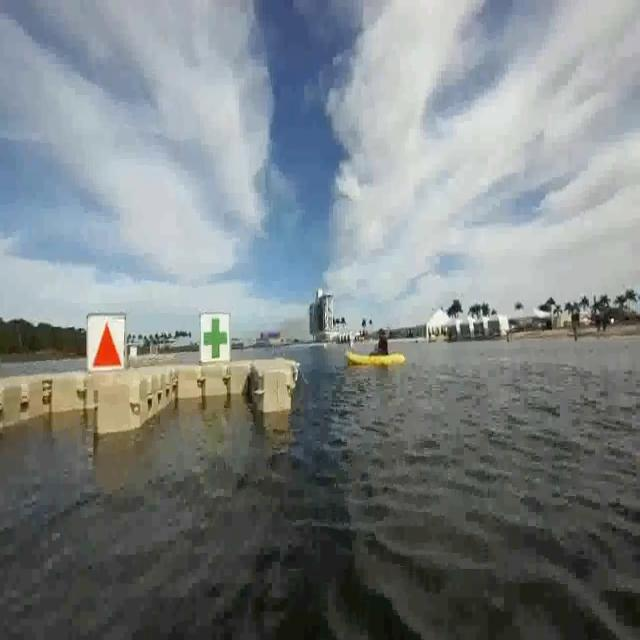blue-cross: (200, 310, 229, 364)
red-dot: (88, 314, 124, 375)
